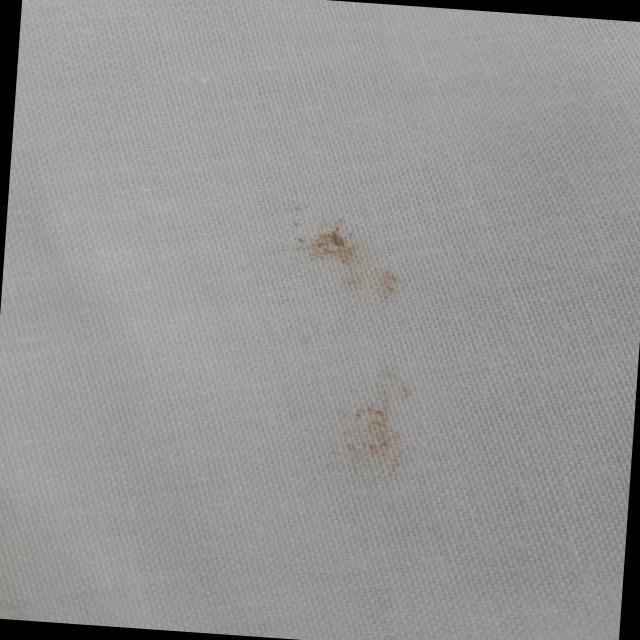stain: (292, 217, 421, 310), (332, 367, 432, 470)
